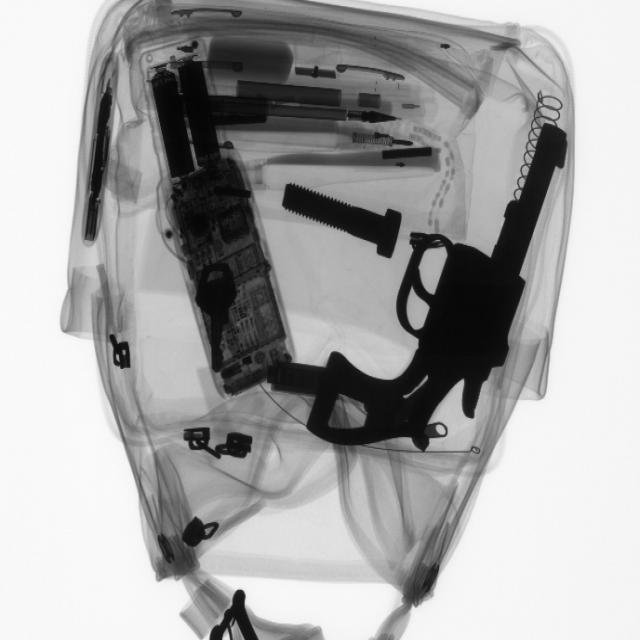GUN: (298, 135, 569, 464)
SCREW: (244, 199, 437, 261)
